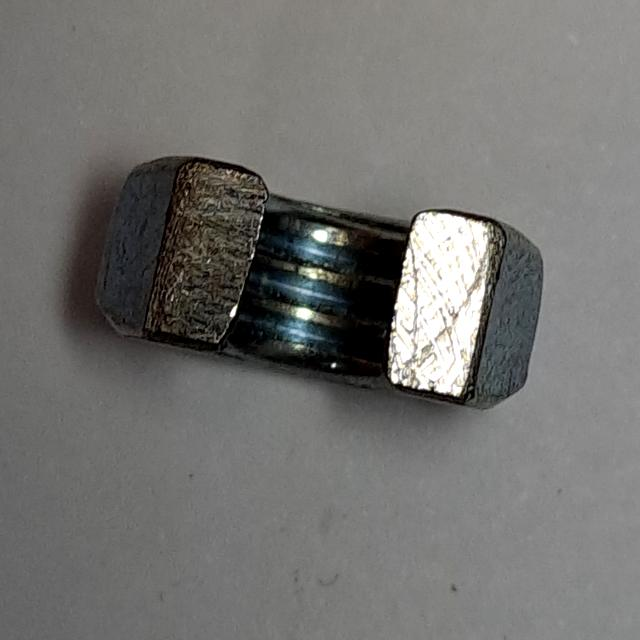Side-Fracture: (76, 145, 558, 428)
